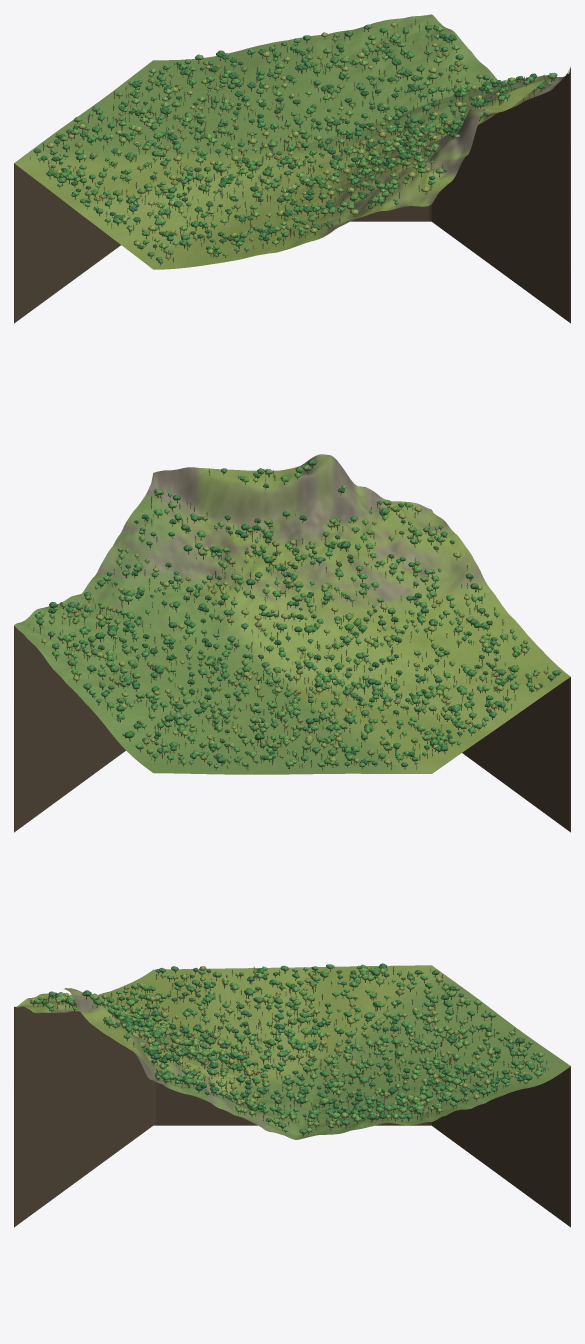
3 views of the same model, one above another, from view 1: azimuth 30°, elevation 25°; view 2: azimuth 150°, elevation 25°; view 3: azimuth 270°, elevation 25° (orthographic).
Visible parts, largest first — view 1: terrain, hex_side_cut, broadleaf_canopy, trunks, conifer_canopy; view 2: terrain, broadleaf_canopy, hex_side_cut, trunks, conifer_canopy; view 3: terrain, hex_side_cut, broadleaf_canopy, trunks, conifer_canopy.
Boxes of the visible parts, box(x1,y1,x2,y2) form: terrain: box(14, 14, 569, 269); hex_side_cut: box(14, 67, 570, 323); broadleaf_canopy: box(33, 22, 557, 263); trunks: box(30, 20, 554, 265); conifer_canopy: box(30, 18, 550, 260); terrain: box(14, 454, 570, 774); broadleaf_canopy: box(34, 459, 561, 768); hex_side_cut: box(14, 625, 570, 832); trunks: box(28, 465, 558, 770); conifer_canopy: box(28, 470, 548, 767); terrain: box(16, 965, 570, 1139); hex_side_cut: box(14, 1006, 570, 1227); broadleaf_canopy: box(30, 963, 545, 1134); trunks: box(33, 967, 548, 1136); conifer_canopy: box(33, 967, 548, 1127).
Size of the model in its own units: 4330 by 2749 by 5000.
6 materials, 1 textured.
